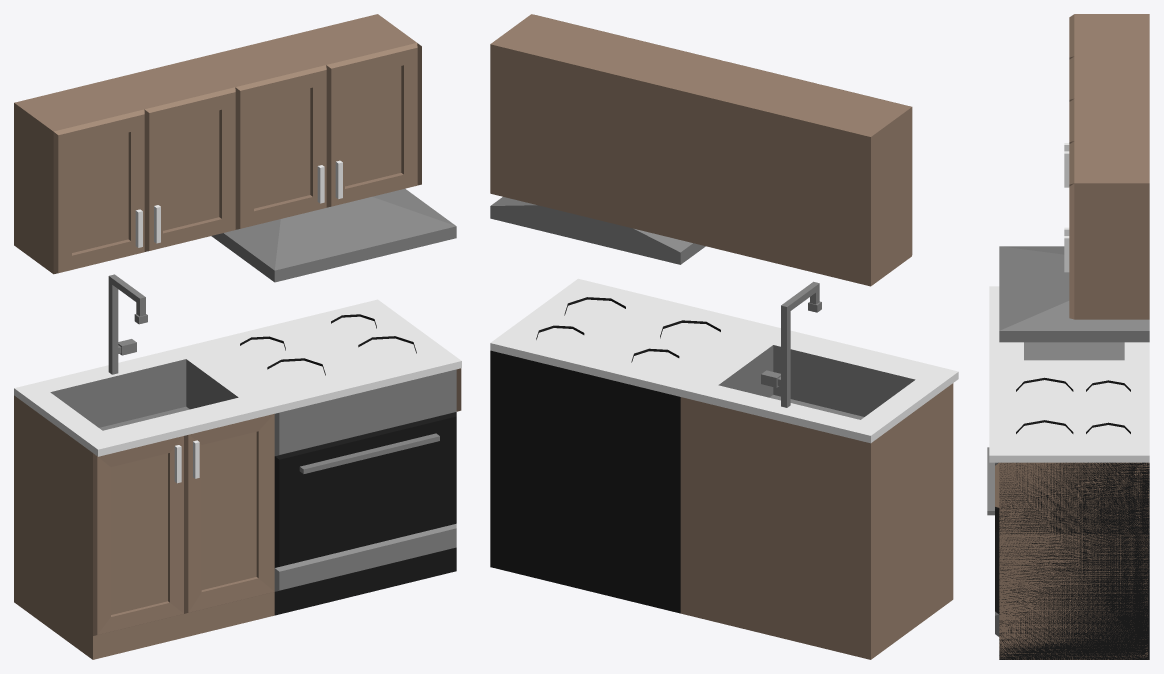
The model's file is countertop.glb.
The picture shows the model from 3 angles, left to right: view 1: azimuth 30°, elevation 25°; view 2: azimuth 150°, elevation 25°; view 3: azimuth 270°, elevation 25°; orthographic projection. The views are drawn at different scales.
Visible parts, largest first — view 1: Kitchennette_0; view 2: Kitchennette_0; view 3: Kitchennette_0.
Part boxes in pixels (x1,y1,x2,y2): Kitchennette_0: (14,14,461,659); Kitchennette_0: (490,14,958,659); Kitchennette_0: (987,14,1149,659).
Size of the model in its own units: 1.61 by 2.1 by 0.6475.
4 materials, 4 textured.
